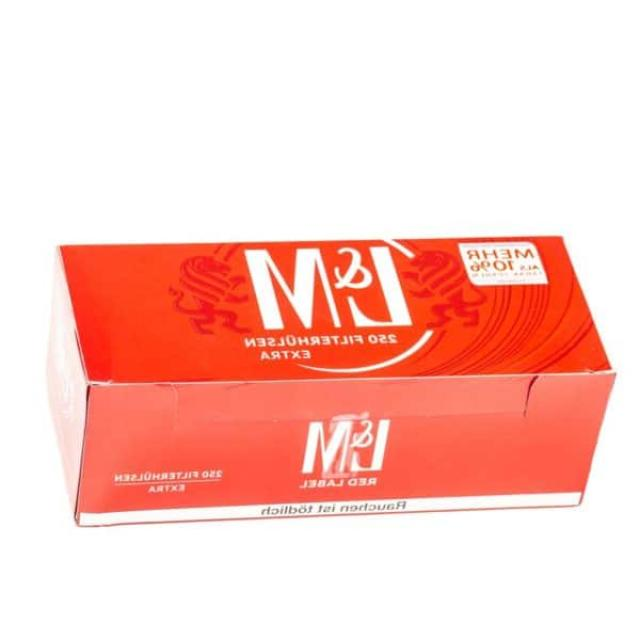lm: (39, 232, 618, 528)
